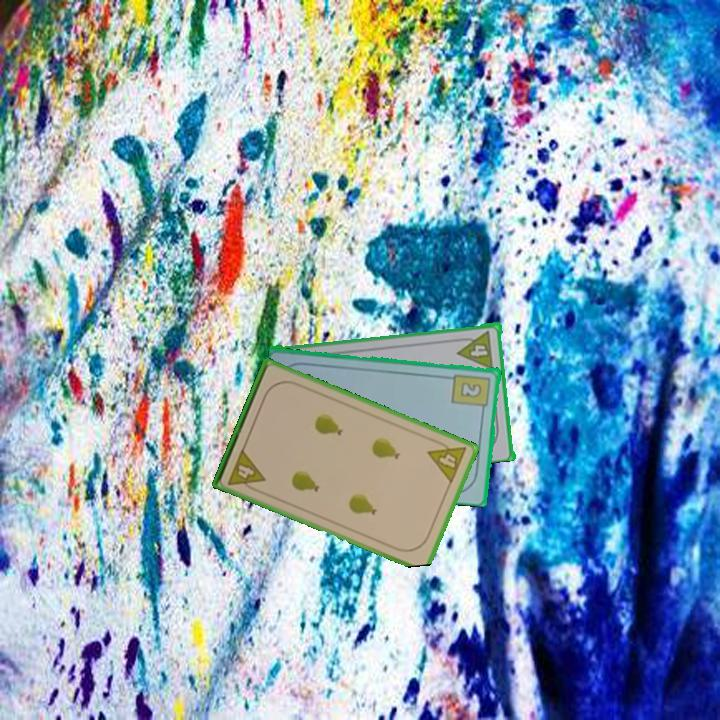2b: (449, 370, 493, 415)
4p: (424, 435, 470, 486), (224, 445, 268, 495), (454, 327, 496, 371)
